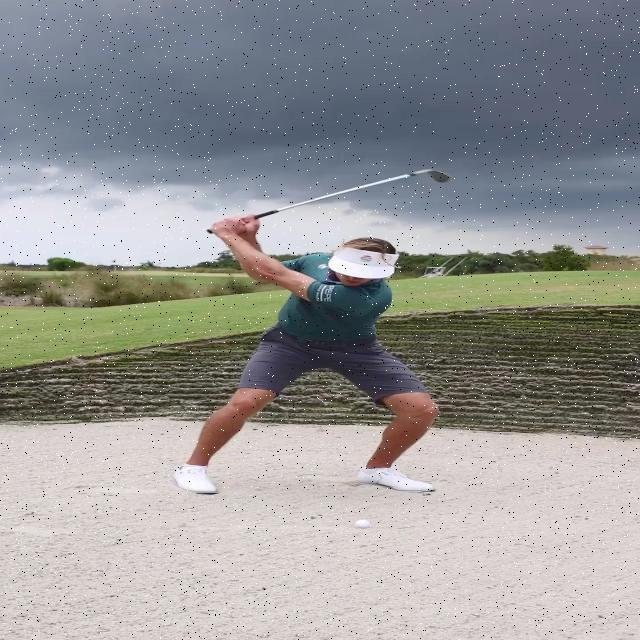ClubHandle: (205, 166, 456, 234)
ClubHead: (429, 169, 453, 183)
GolfBall: (355, 520, 371, 529)
